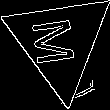M_E: (33, 16, 86, 68)
